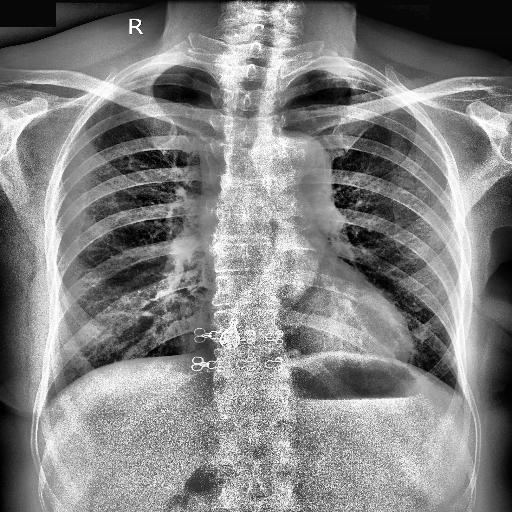0- Aortic enlargement: (257, 129, 334, 201), (264, 133, 334, 205), (271, 131, 332, 198)
3- Cardiomegaly: (206, 301, 414, 369)
